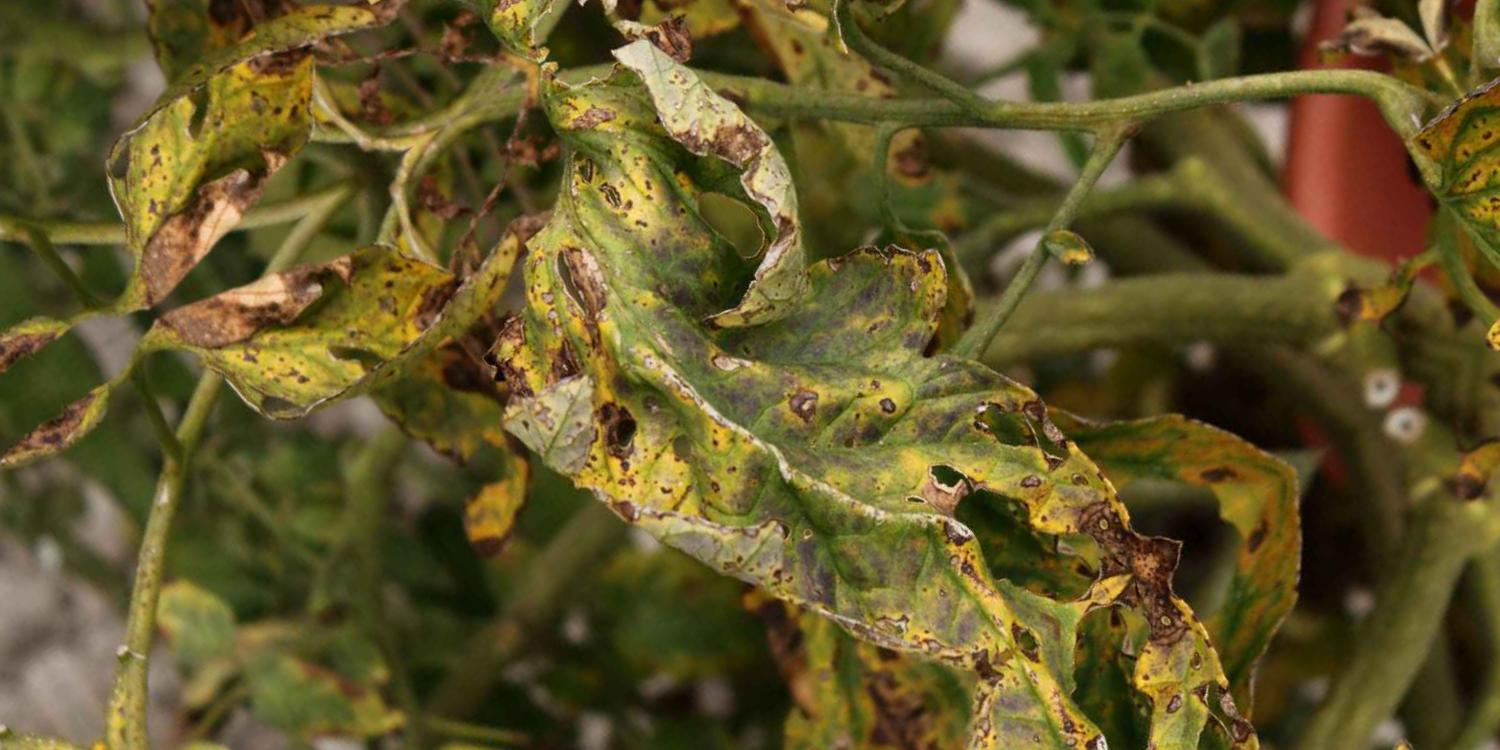Tomato Septoria leaf spot: (359, 0, 1168, 750), (76, 159, 521, 529)
